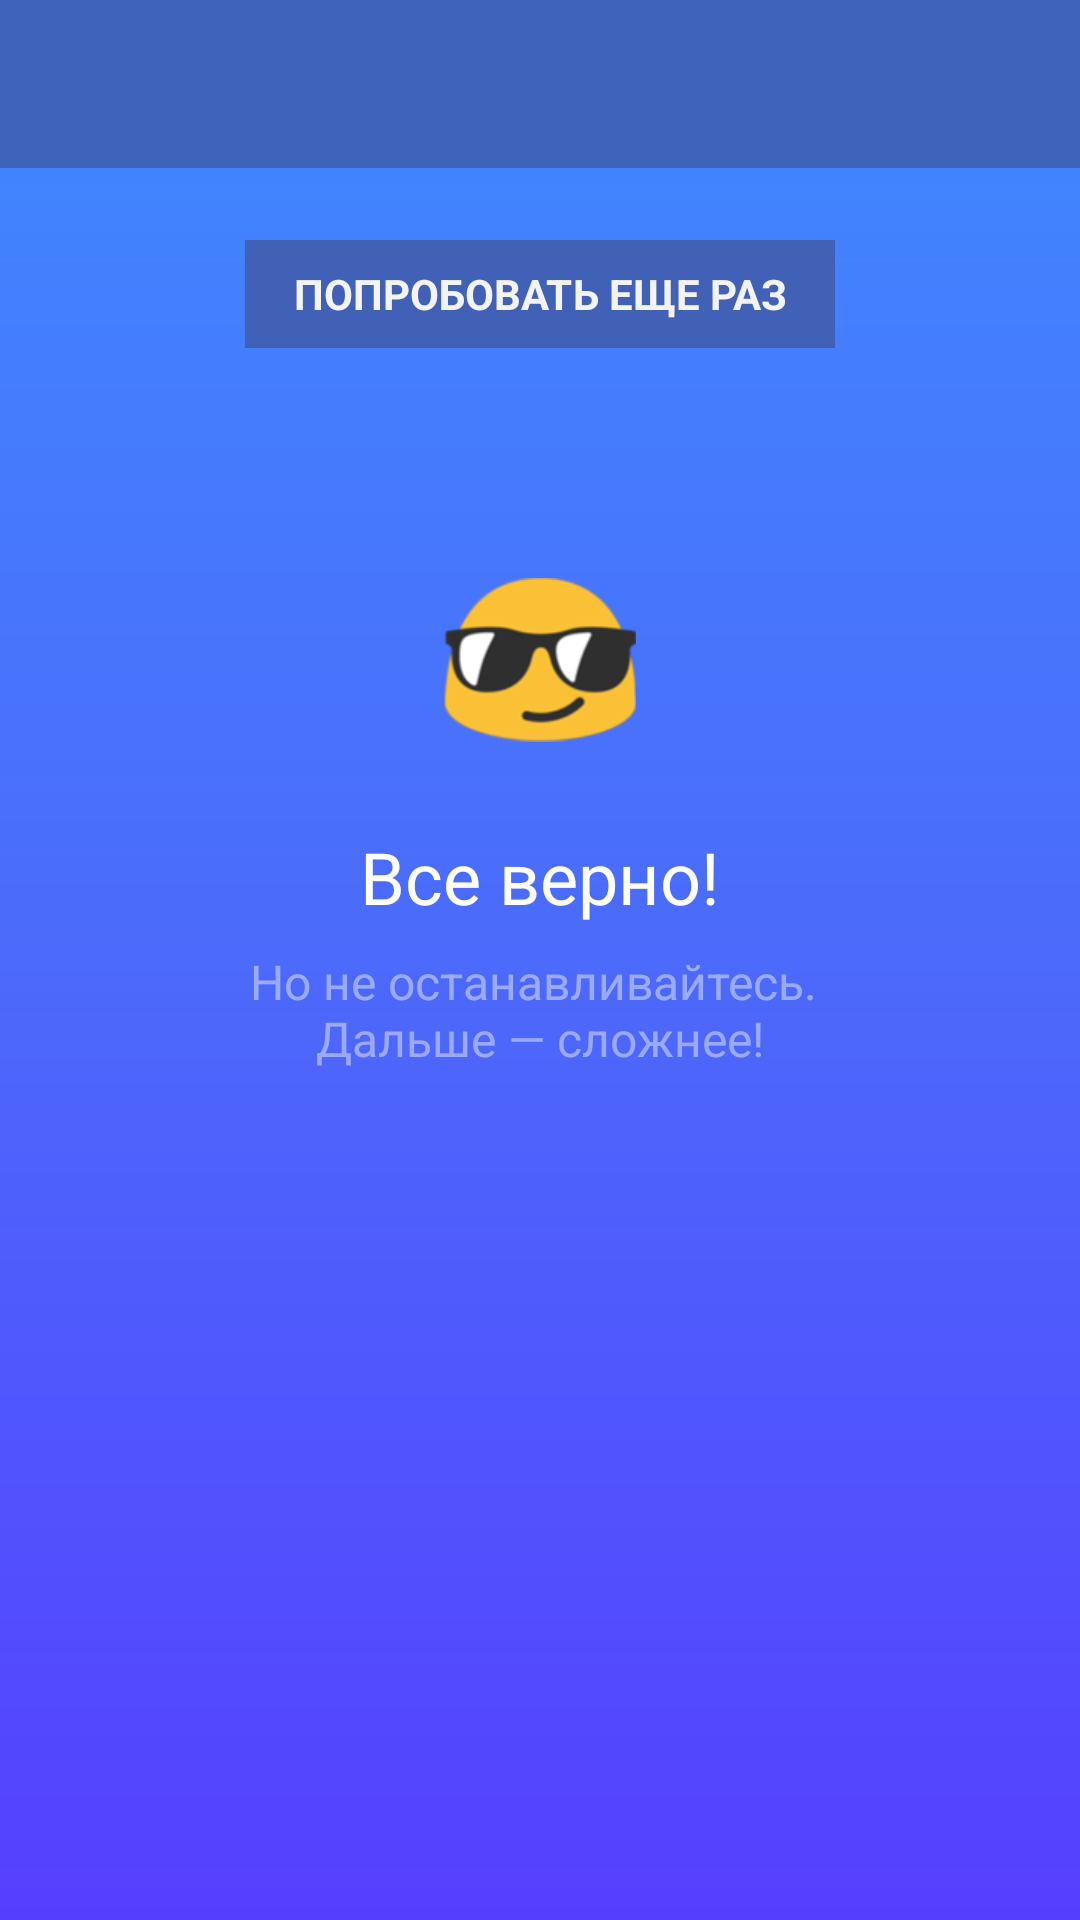

Point at icon controls on the screen. Image size 1080w x 1920h, points as [x,y].
smile cool: [540,660]
